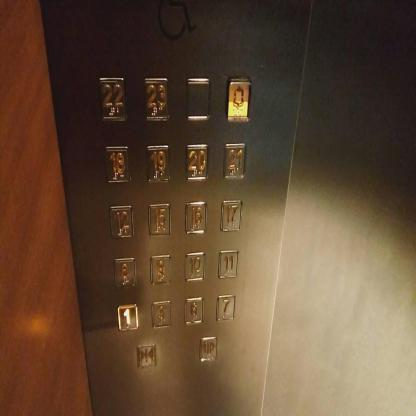1: (116, 300, 140, 334)
10: (182, 249, 206, 284)
11: (216, 246, 240, 282)
12: (108, 201, 134, 244)
15: (146, 199, 172, 241)
16: (182, 195, 208, 238)
17: (218, 194, 244, 237)
18: (104, 142, 129, 185)
19: (145, 142, 171, 184)
20: (184, 141, 210, 183)
21: (222, 140, 248, 182)
22: (96, 72, 128, 124)
23: (140, 72, 172, 124)
3: (148, 298, 173, 332)
6: (181, 294, 205, 327)
7: (214, 291, 238, 325)
8: (112, 253, 137, 296)
9: (148, 250, 172, 288)
alarm: (223, 74, 252, 125)
close: (134, 339, 158, 373)
empty: (182, 74, 212, 124)
open: (197, 334, 219, 365)
